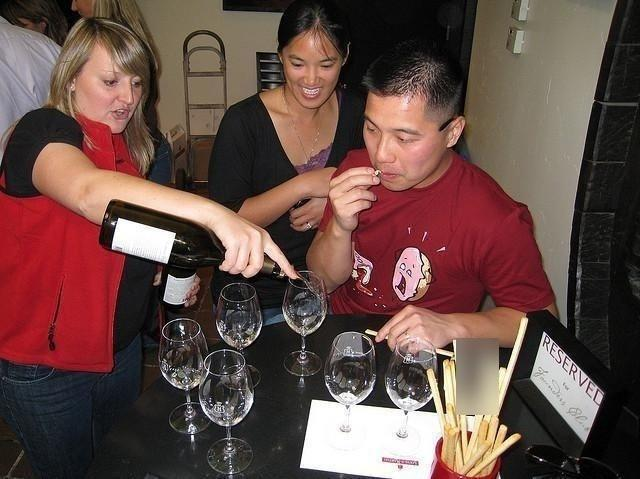bottle-glass: (97, 198, 226, 277)
glass-wine: (196, 346, 257, 476), (155, 318, 212, 433), (381, 337, 438, 452), (323, 331, 375, 450), (282, 270, 327, 375), (216, 278, 264, 347)
